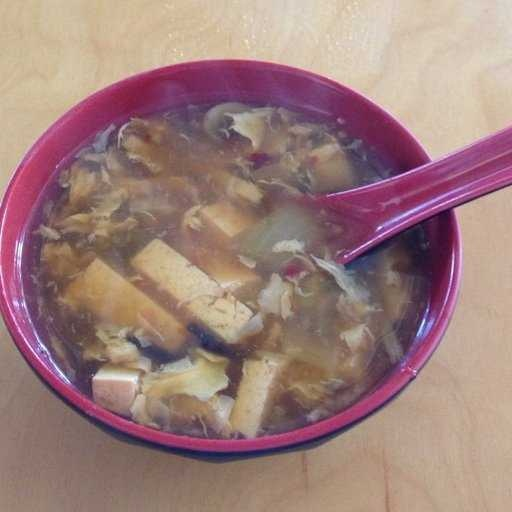soup: (13, 88, 452, 445)
